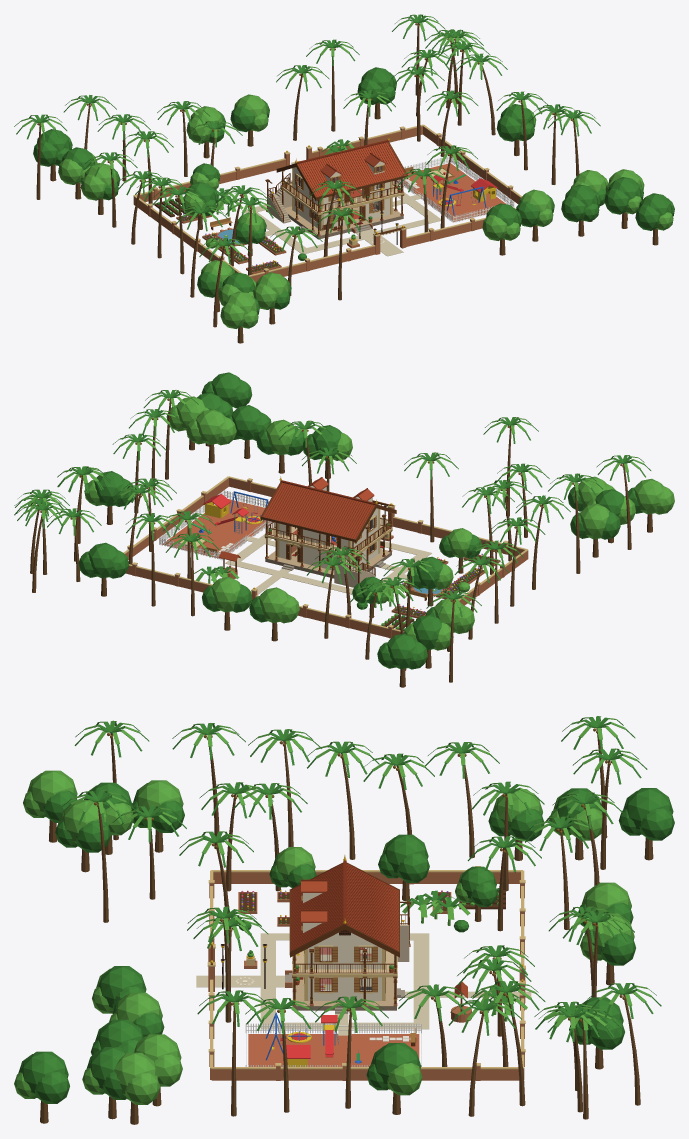
File: house.glb
3 renders of one model, top to bottom at view 1: azimuth 30°, elevation 25°; view 2: azimuth 150°, elevation 25°; view 3: azimuth 270°, elevation 25°, orthographic. The views are drawn at different scales.
Visible parts, largest first — view 1: House_roof.c0_-1, WALK_rubber.c2_-1, House_leaf.c4_0, House_leaf.c4_-4, House_leaf.c3_-4, House_leaf.c-5_4, House_timber.c0_-1, House_leaf2.c-5_2, House_stone.c-2_-3, House_roof2.c0_-1, House_leaf2.c-6_-5, House_leaf2.c-5_-5 (+25 smaller); view 2: House_roof.c0_0, WALK_rubber.c2_-1, House_leaf.c-5_4, House_leaf2.c4_-3, House_roof2.c0_0, House_leaf.c3_-4, House_timber.c0_0, House_leaf2.c-5_2, House_leaf2.c-6_-5, House_roof2.c-1_0, House_leaf.c4_-5, House_leaf2.c-5_-3 (+27 smaller); view 3: WALK_rubber.c2_-1, House_roof.c0_0, House_stone.c3_0, House_roof.c0_-1, House_leaf.c5_-5, House_leaf.c-5_4, House_walls.c0_0, House_roof2.c0_0, House_leaf.c4_0, House_stone.c-4_0, House_leaf2.c5_-4, House_roof2.c-1_0 (+46 smaller).
Part boxes in pixels (box(x1,y1,x2,y2)): House_roof.c0_-1: box(298, 142, 406, 196); WALK_rubber.c2_-1: box(399, 163, 505, 221); House_leaf.c4_0: box(496, 92, 542, 141); House_leaf.c4_-4: box(588, 177, 639, 217); House_leaf.c3_-4: box(547, 184, 598, 222); House_leaf.c-5_4: box(33, 100, 71, 166); House_timber.c0_-1: box(316, 166, 408, 221); House_leaf2.c-5_2: box(80, 152, 117, 200); House_stone.c-2_-3: box(250, 246, 375, 282); House_roof2.c0_-1: box(297, 141, 401, 185); House_leaf2.c-6_-5: box(220, 291, 252, 328); House_leaf2.c-5_-5: box(239, 278, 279, 328); House_roof.c0_0: box(262, 483, 374, 539); WALK_rubber.c2_-1: box(163, 499, 270, 558); House_leaf.c-5_4: box(378, 592, 433, 669); House_leaf2.c4_-3: box(183, 403, 232, 445); House_roof2.c0_0: box(267, 480, 375, 527); House_leaf.c3_-4: box(232, 405, 271, 440); House_timber.c0_0: box(260, 516, 355, 565); House_leaf2.c-5_2: box(434, 562, 485, 633); House_leaf2.c-6_-5: box(639, 479, 674, 514); House_roof2.c-1_0: box(310, 494, 369, 538); House_leaf.c4_-5: box(215, 372, 252, 408); House_leaf2.c-5_-3: box(556, 473, 609, 539); WALK_rubber.c2_-1: box(248, 1034, 419, 1066); House_roof.c0_0: box(346, 864, 398, 950); House_stone.c3_0: box(211, 1066, 519, 1080); House_roof.c0_-1: box(291, 864, 343, 950); House_leaf.c5_-5: box(21, 1052, 69, 1103); House_leaf.c-5_4: box(615, 736, 674, 840); House_walls.c0_0: box(325, 932, 381, 1000); House_roof2.c0_0: box(343, 860, 398, 948); House_leaf.c4_0: box(339, 996, 415, 1090); House_stone.c-4_0: box(213, 872, 520, 883); House_leaf2.c5_-4: box(85, 1054, 150, 1104); House_roof2.c-1_0: box(346, 866, 398, 920).
Size of the model in its own units: 67.23 by 12.53 by 59.56.
